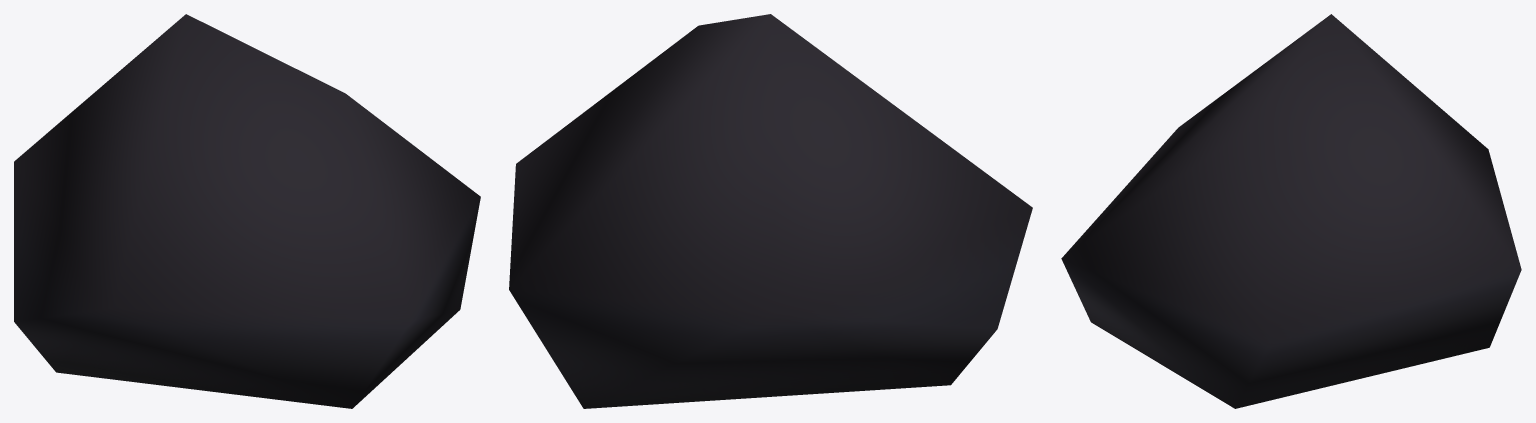
The model's file is Rock.glb.
3 views of the same model, side by side, from view 1: azimuth 30°, elevation 25°; view 2: azimuth 150°, elevation 25°; view 3: azimuth 270°, elevation 25° (orthographic). The views are drawn at different scales.
Visible parts, largest first — view 1: rock; view 2: rock; view 3: rock.
Boxes of the visible parts, left/top/right/bottom form: rock: left=14, top=14, right=480, bottom=408; rock: left=509, top=14, right=1032, bottom=408; rock: left=1061, top=14, right=1521, bottom=408.
Bounding box in the file's own units: 7.65 × 5.27 × 7.22.
1 material, 1 textured.
